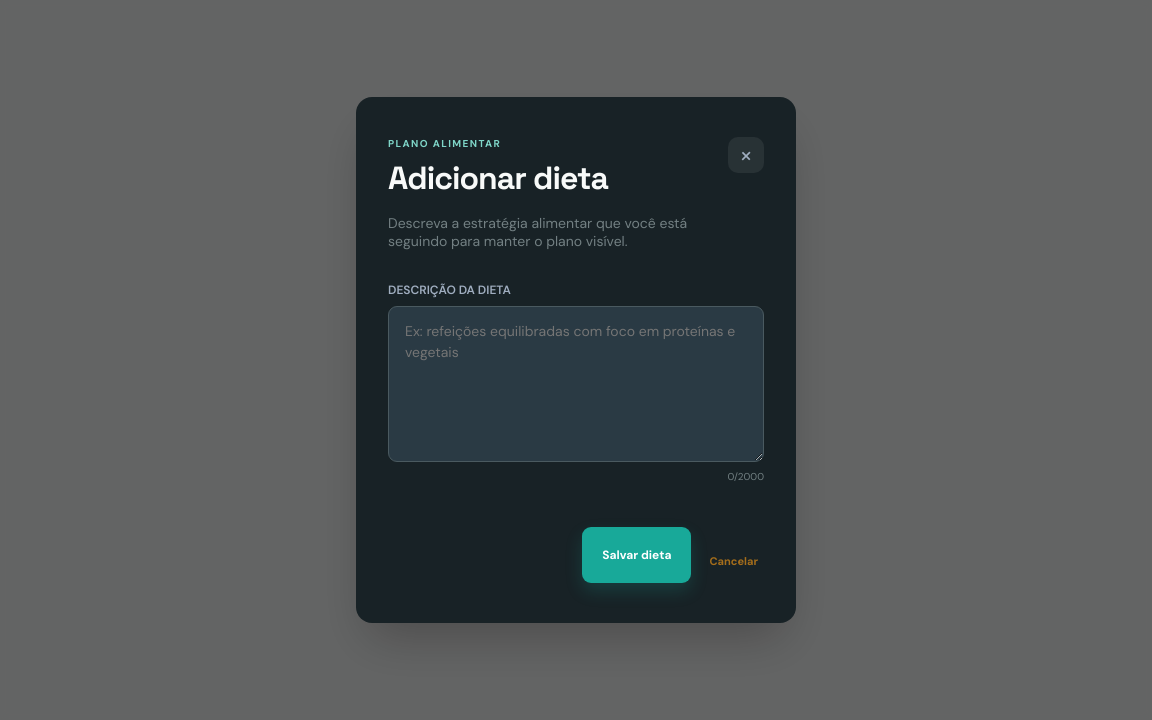
Test case: DietForm › impede salvar uma dieta vazia
The width and height of the screenshot is (1152, 720).
Click the button "Salvar dieta".
click(637, 555)  # box [582,527,692,583]
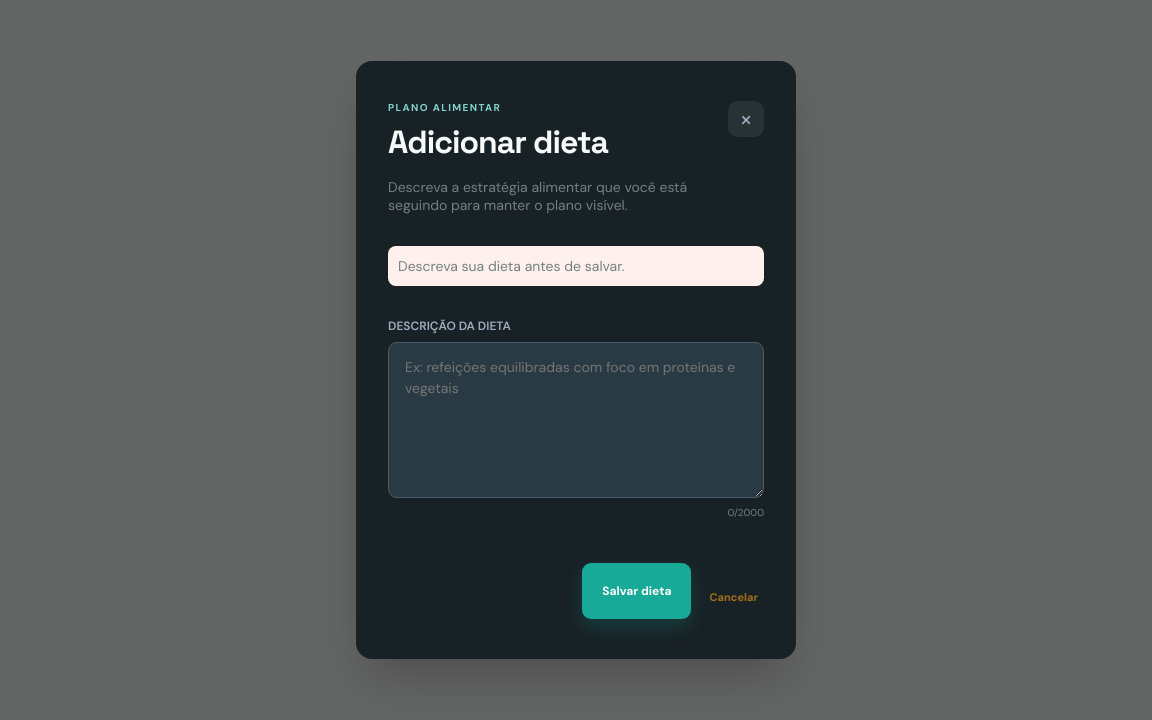
Result: the message shows "Descreva sua dieta" at [398,257,625,275]
